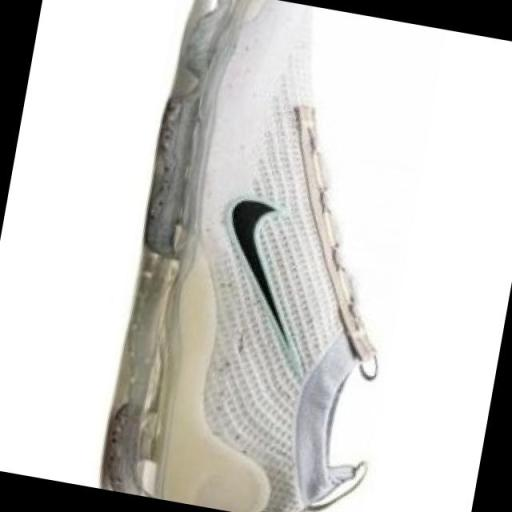Nike: (196, 187, 334, 382)
